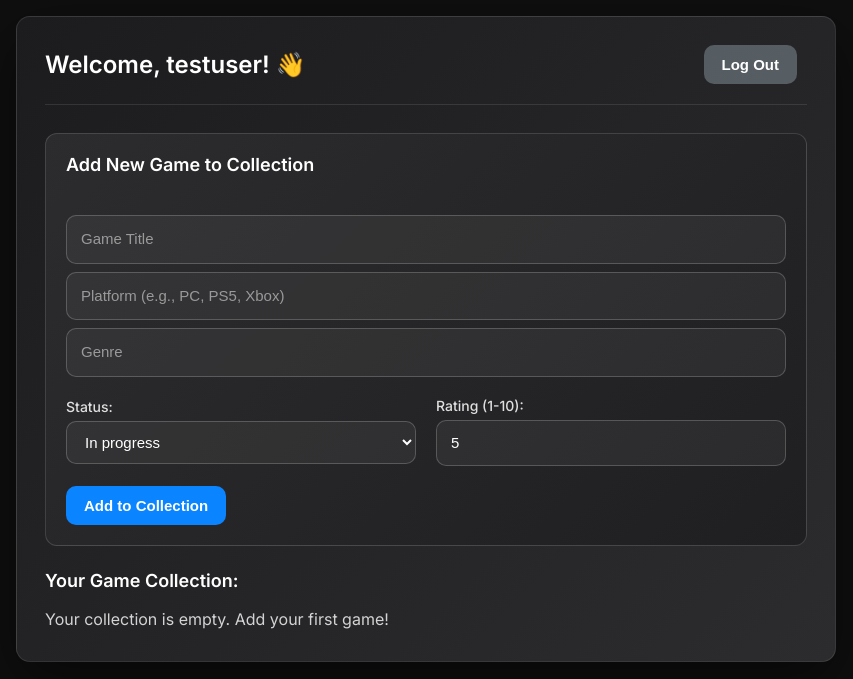
App Component - Games CRUD › logs out user and clears data
Check: the heading "Welcome, testuser! 👋" is shown, box x1=45 y1=50 x2=306 y2=79
Click the button "Log Out" at x=750, y=64, box x1=704 y1=45 x2=797 y2=84
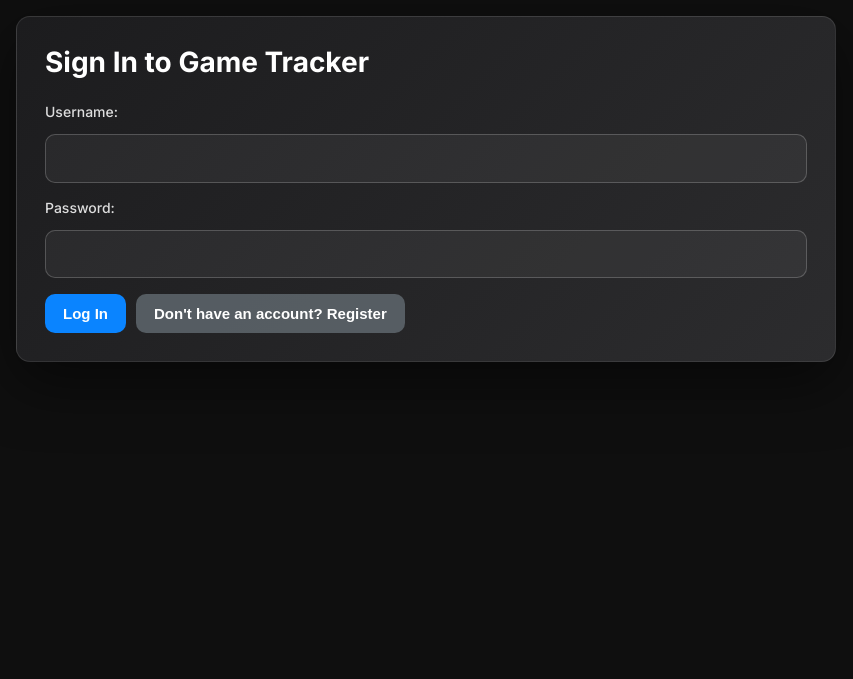
Check: the heading "Sign In to Game Tracker" is shown, box x1=45 y1=45 x2=369 y2=79
